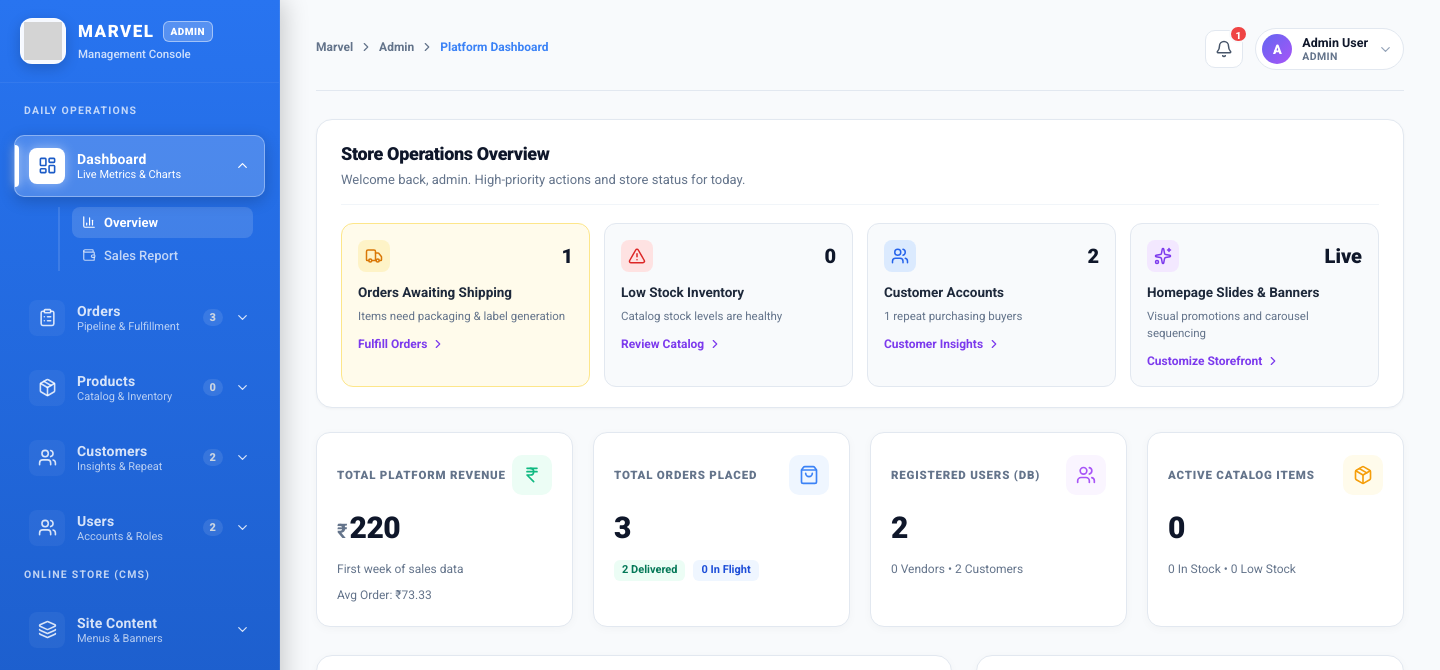
Test: UnifiedAdminConsole › filters the repeat-buyer segment, not just all customers
Click the button "Customers Insights & Repeat 2".
click(140, 458)  # box [14, 427, 265, 489]
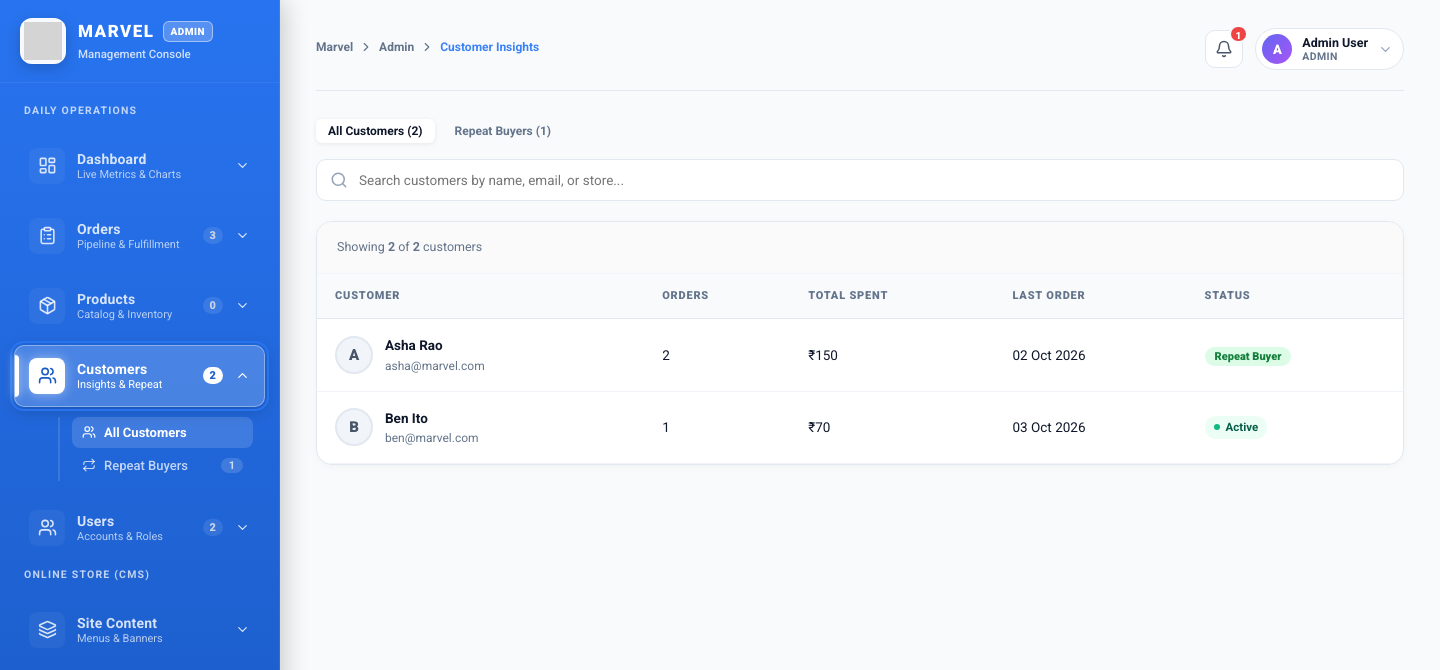
Click the button "Repeat Buyers (1)".
click(503, 131)  # box [442, 119, 563, 143]
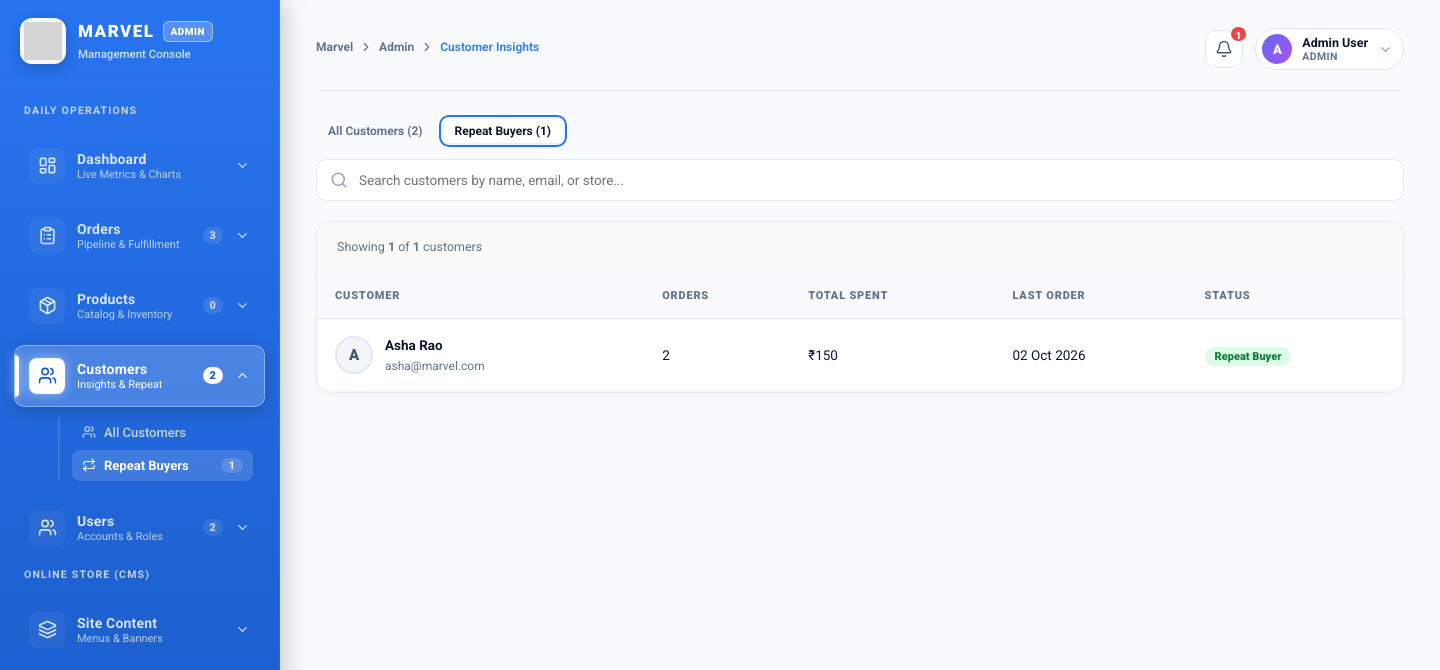
Now the text "Asha Rao" is shown, box [385, 337, 443, 353]
Now the text "Ben Ito" is gone
Now the element showing "Showing 1 of 1 customers" is shown, box [337, 238, 482, 257]
Type "ben" into the field with placeholder "Search customers by name, email, or store...".
click(860, 180); type("ben")  # box [316, 159, 1404, 201]
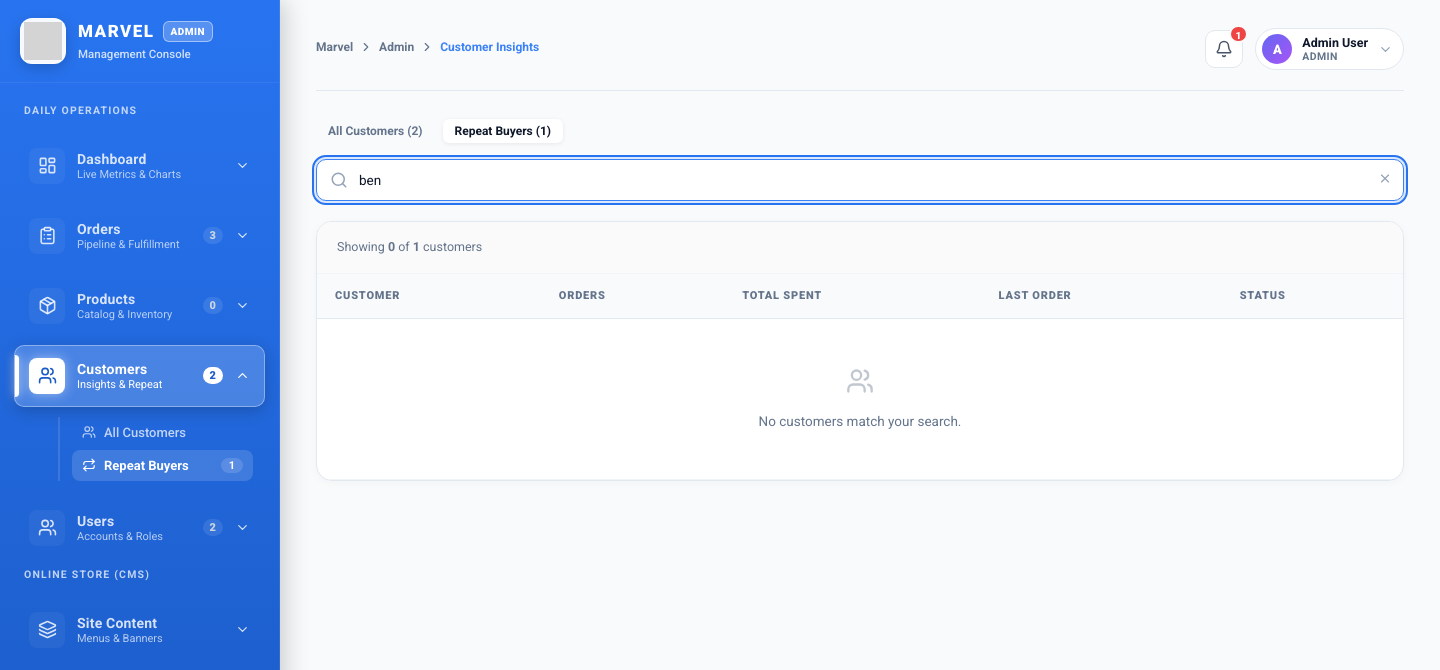
Now the text "No customers match your search." is shown, box [759, 412, 961, 428]
Now the text "Asha Rao" is gone
